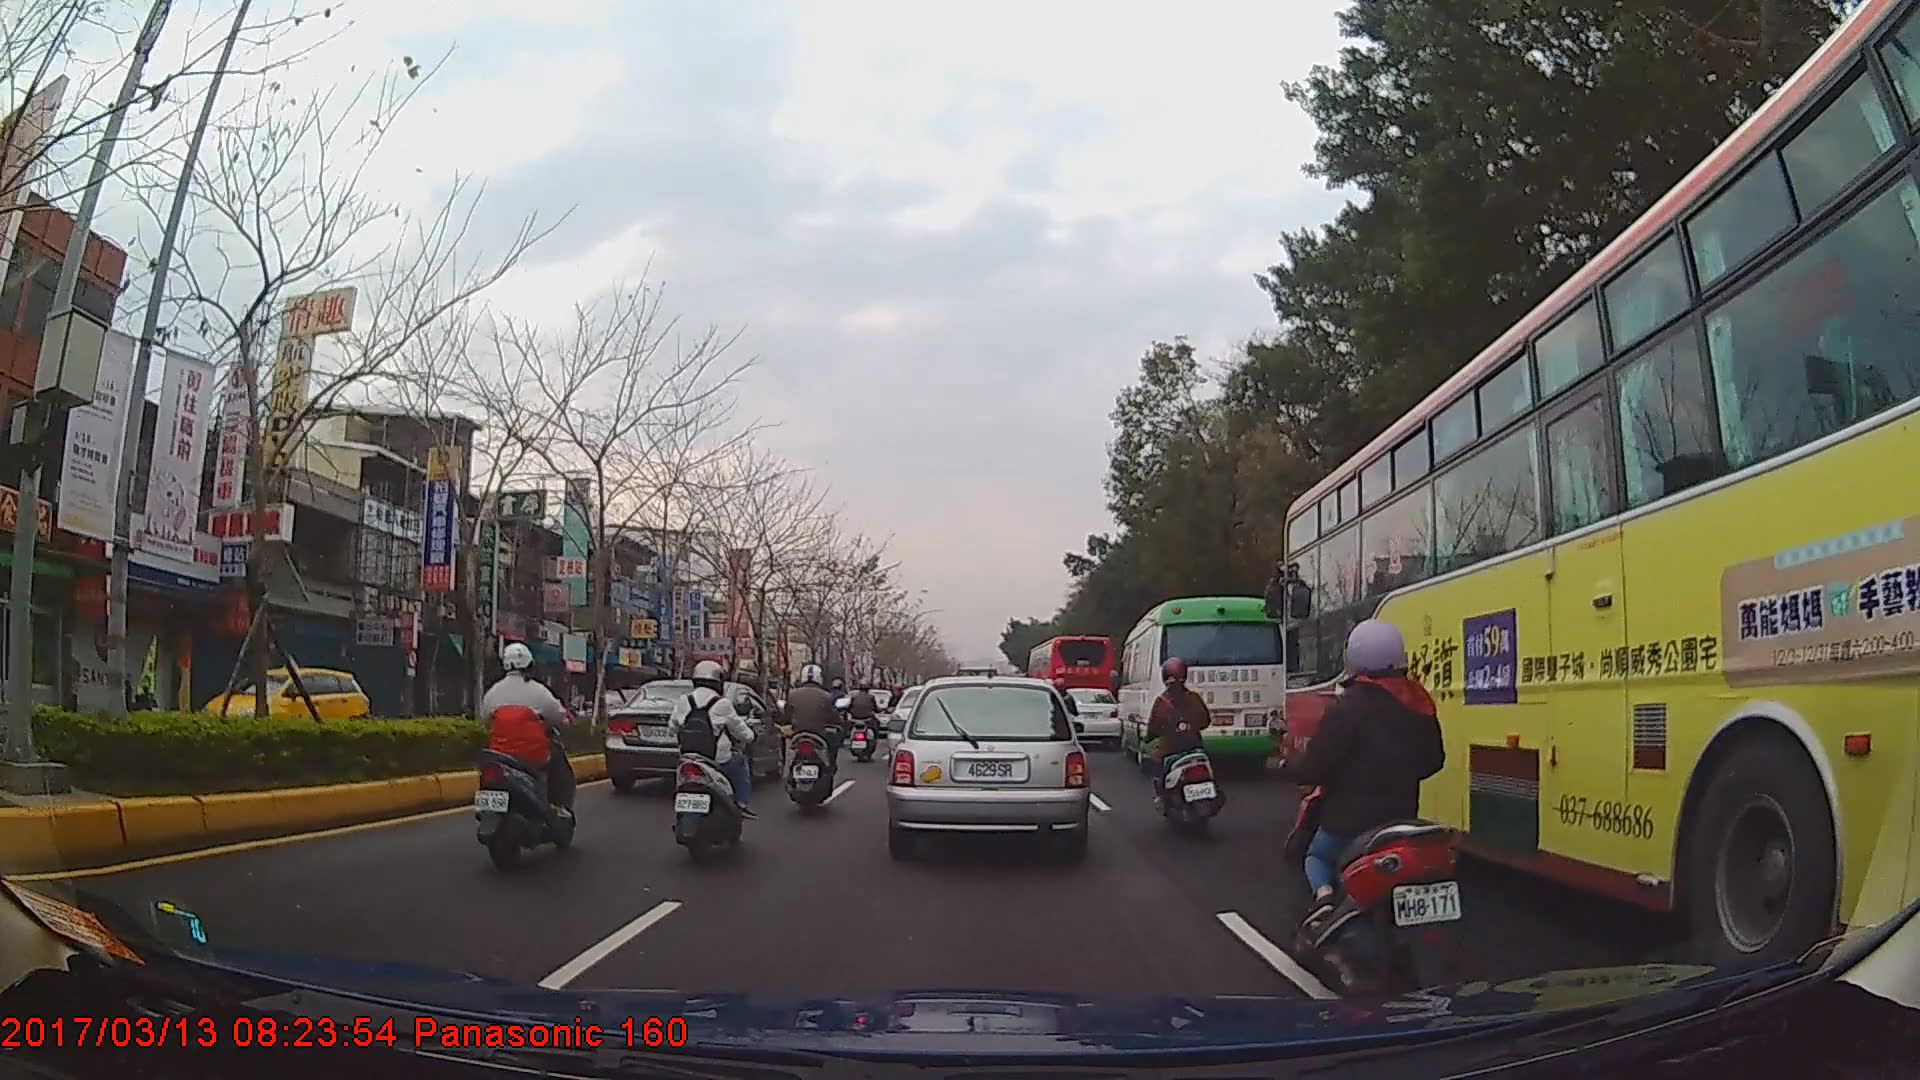rider: (1301, 612, 1461, 1004), (469, 641, 576, 874), (667, 659, 752, 867), (1140, 657, 1223, 834), (779, 665, 848, 816), (847, 680, 884, 765), (829, 679, 854, 729)
vehicle: (1276, 0, 1920, 1015), (887, 672, 1089, 856), (1116, 593, 1287, 774), (602, 678, 787, 795), (198, 650, 370, 752), (1026, 633, 1113, 742), (1052, 686, 1122, 745)
